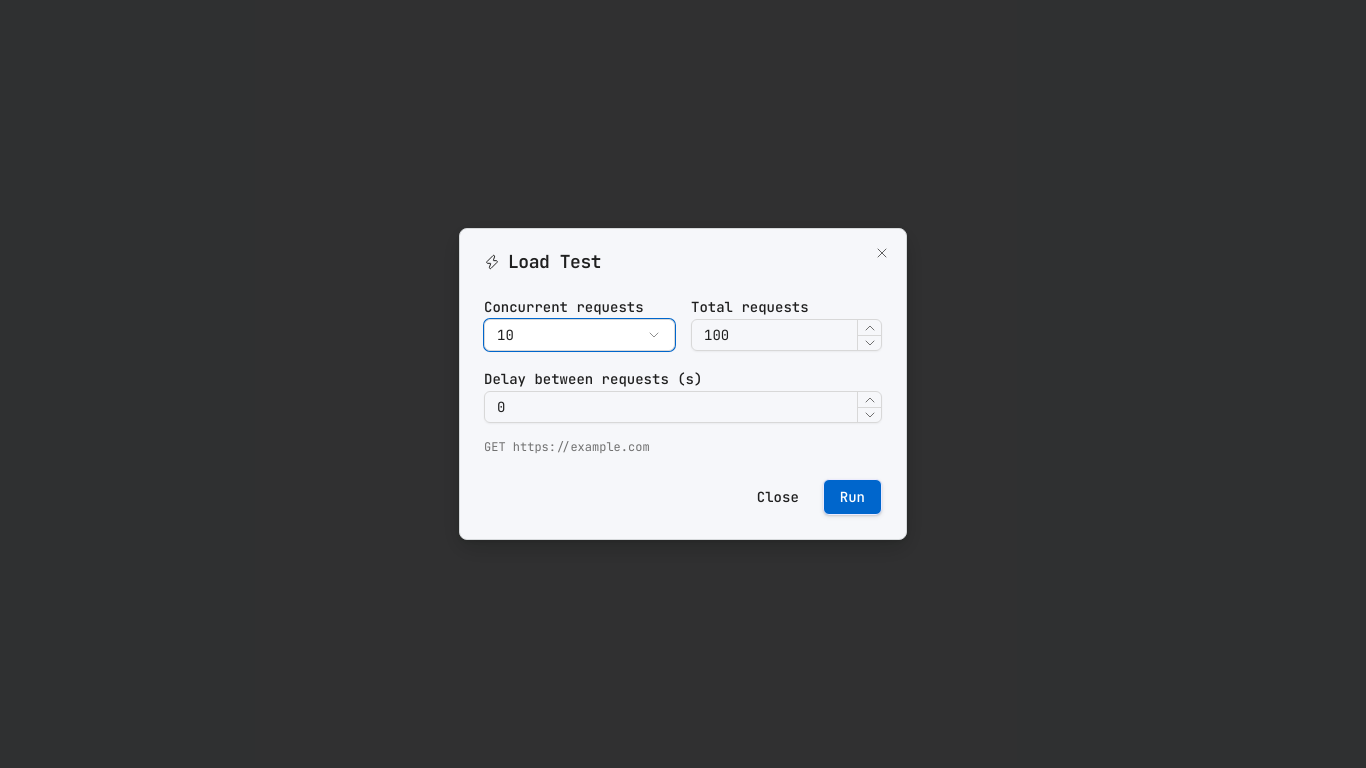
Test case: LoadTestDialog › shows the failure breakdown when failures exist
This screenshot has width=1366, height=768.
Click the button "Run": (852, 497) [823,479,882,515]
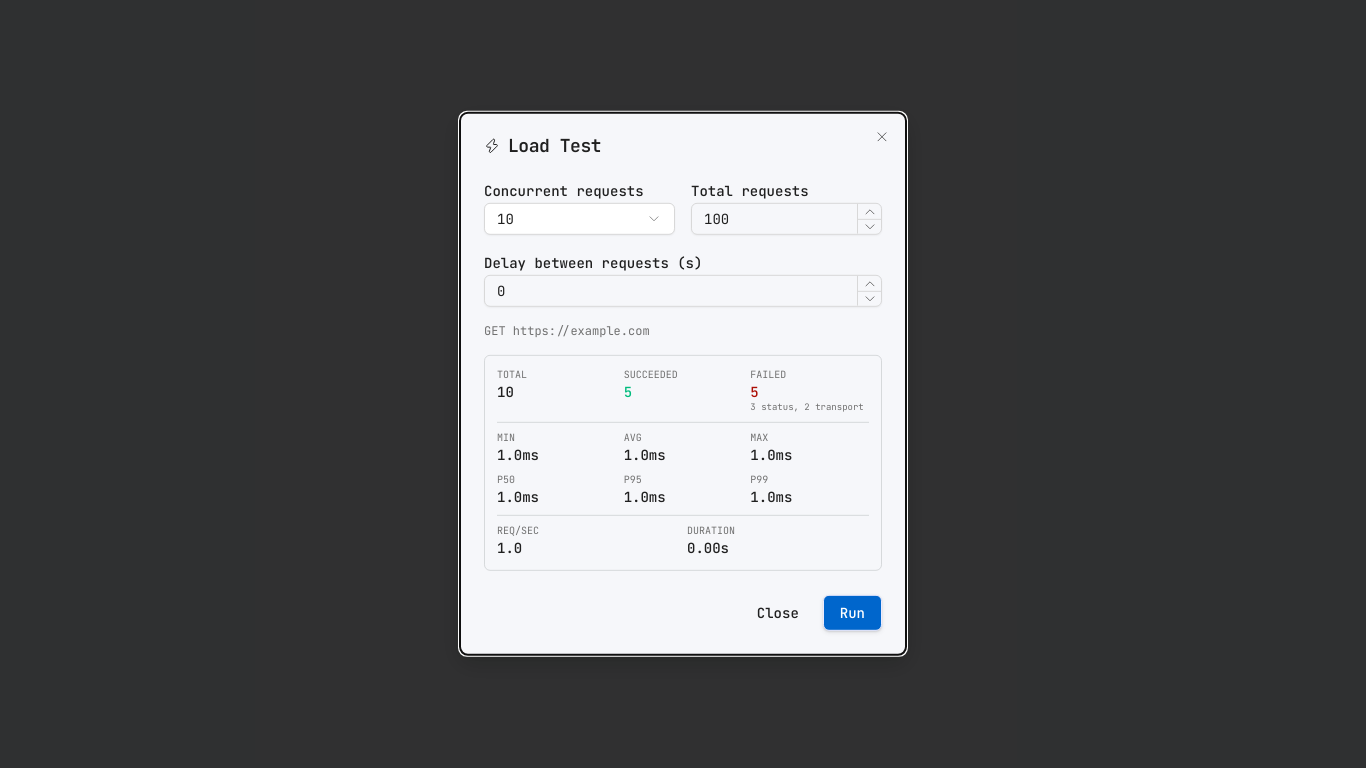
Result: the text "3 status, 2 transport" is shown at [750,402,869,413]
